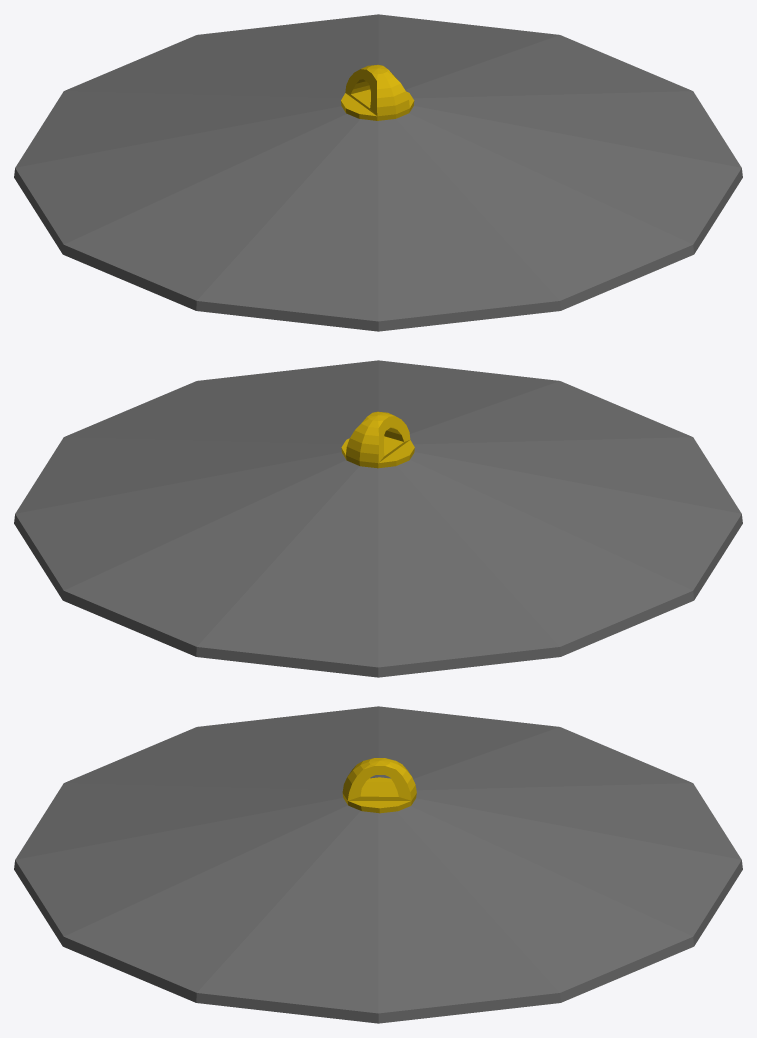
The model's file is LudumDareTrashCanLid.fbx.
3 views of the same model, one above another, from view 1: azimuth 30°, elevation 25°; view 2: azimuth 150°, elevation 25°; view 3: azimuth 270°, elevation 25° (orthographic).
Parts seen in each view (by area): view 1: Trash Can Lid, Trash Can Lid.001; view 2: Trash Can Lid, Trash Can Lid.001; view 3: Trash Can Lid, Trash Can Lid.001.
Part boxes in pixels (left/top/right/bottom): Trash Can Lid: left=14, top=14, right=742, bottom=331; Trash Can Lid.001: left=341, top=64, right=414, bottom=120; Trash Can Lid: left=14, top=360, right=742, bottom=677; Trash Can Lid.001: left=341, top=411, right=414, bottom=468; Trash Can Lid: left=14, top=706, right=742, bottom=1023; Trash Can Lid.001: left=342, top=758, right=416, bottom=813.
Size of the model in its own units: 66.61 by 10.96 by 66.61.
